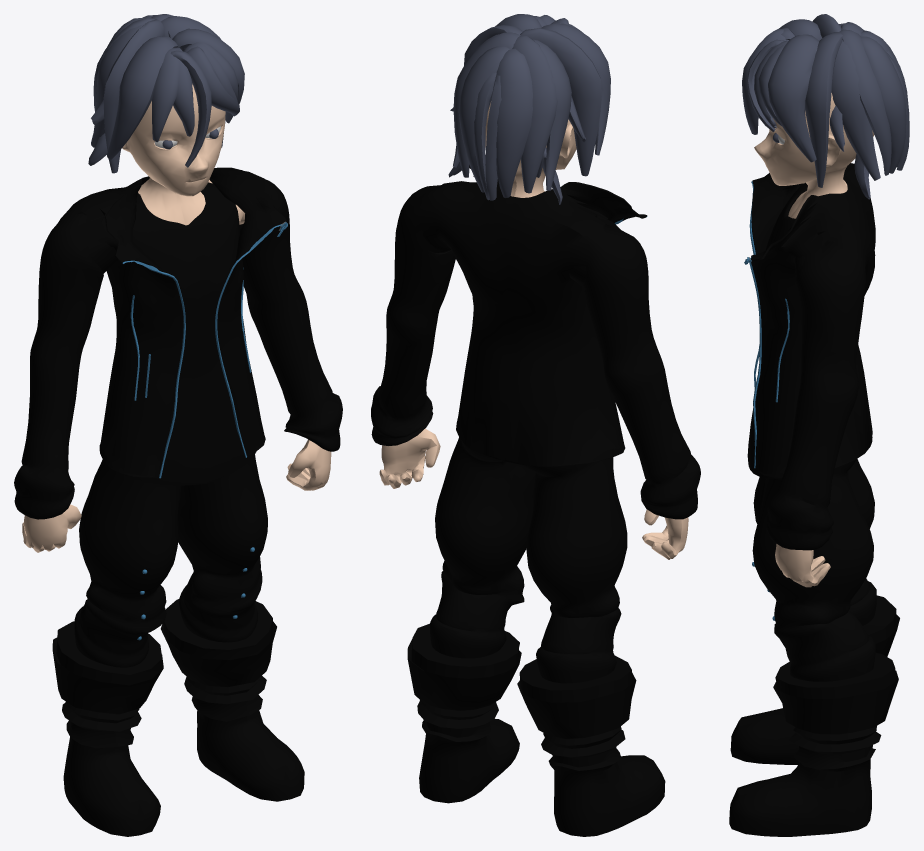
File: adric-3d.glb
3 views of the same model, side by side, from view 1: azimuth 30°, elevation 25°; view 2: azimuth 150°, elevation 25°; view 3: azimuth 270°, elevation 25° (orthographic). The views are drawn at different scales.
Parts seen in each view (by area): view 1: character; view 2: character; view 3: character.
Boxes of the visible parts, box(x1,y1,x2,y2) form: character: box(14, 14, 342, 836); character: box(371, 14, 700, 836); character: box(729, 14, 909, 836).
Size of the model in its own units: 0.4373 by 1 by 0.2149.
